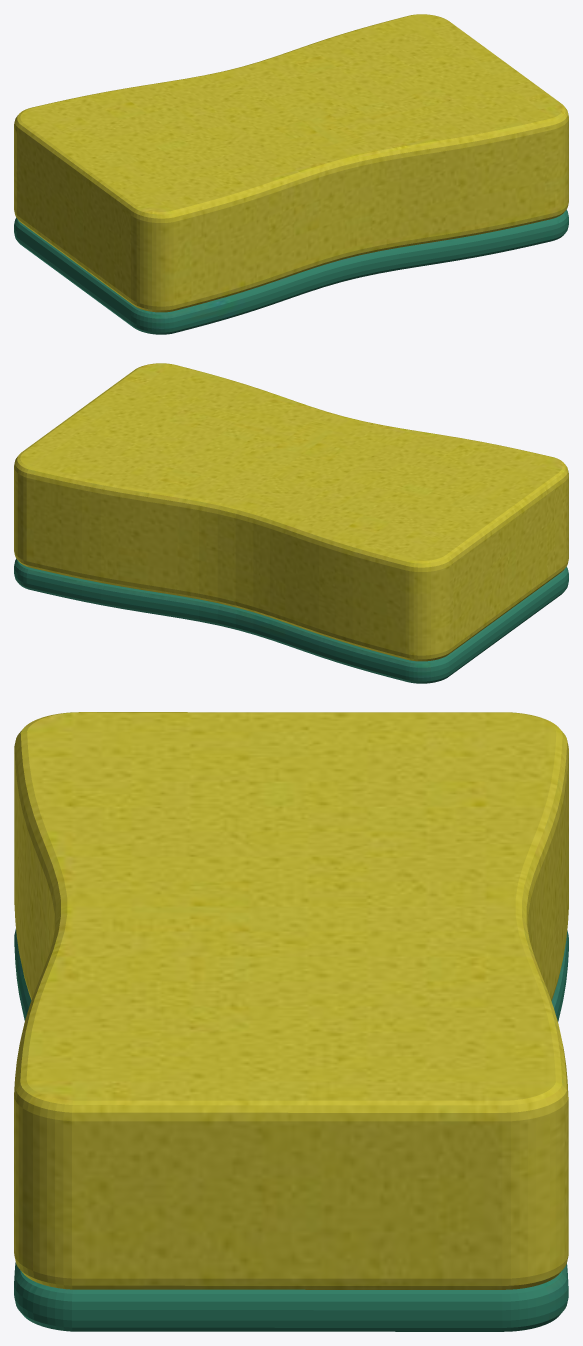
3 views of the same model, one above another, from view 1: azimuth 30°, elevation 25°; view 2: azimuth 150°, elevation 25°; view 3: azimuth 270°, elevation 25° (orthographic). The views are drawn at different scales.
Visible parts, largest first — view 1: sponge; view 2: sponge; view 3: sponge.
Part boxes in pixels (x1,y1,x2,y2): sponge: (14,14,568,334); sponge: (14,363,568,683); sponge: (14,712,568,1331).
Size of the model in its own units: 0.0873 by 0.0236 by 0.0514.
Materials: 2 (2 with a texture image).
